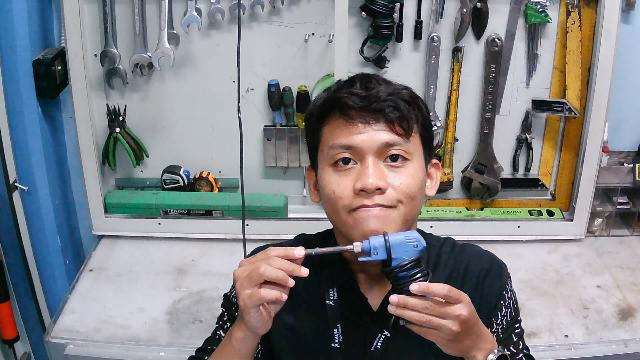solder_electrical: (287, 229, 438, 305)
